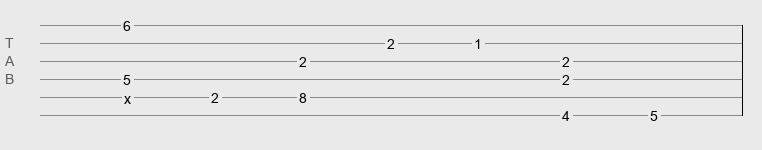1: (474, 36, 482, 46)
2: (211, 90, 219, 100), (299, 54, 307, 64), (387, 36, 395, 46), (562, 72, 570, 82), (562, 54, 570, 64)
4: (562, 108, 570, 118)
5: (123, 72, 131, 82), (650, 108, 658, 118)
6: (123, 18, 131, 28)
8: (299, 90, 307, 100)
x: (124, 91, 131, 99)
